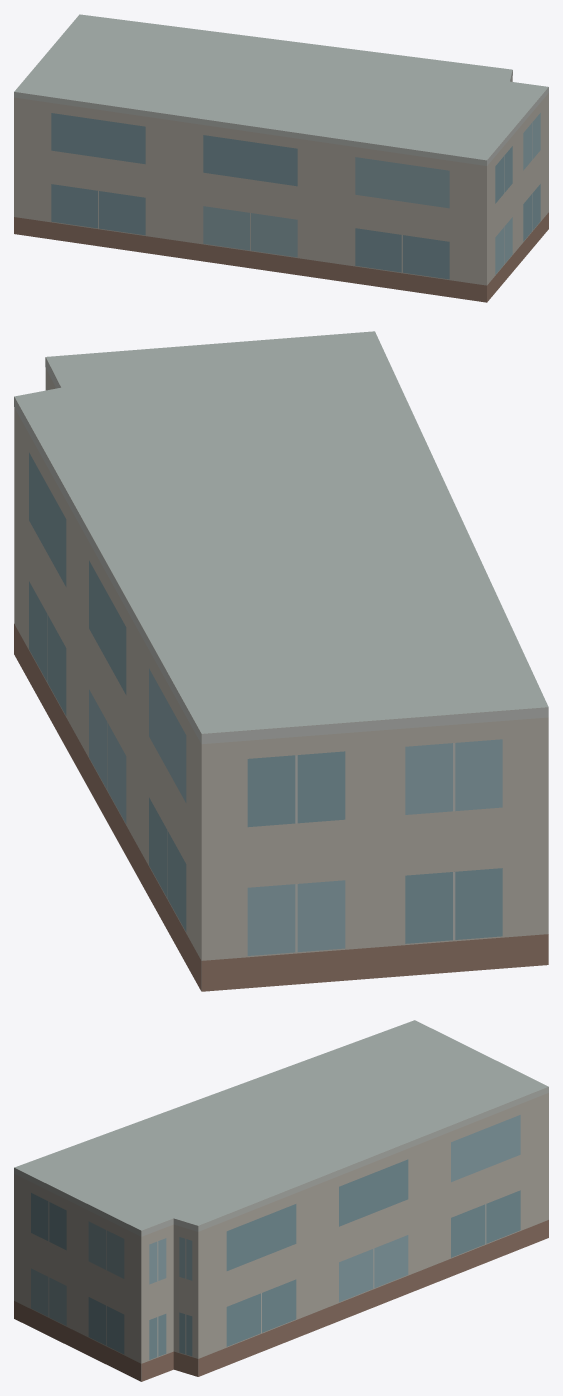
The model's file is survey-upis-32659807.glb.
3 views of the same model, one above another, from view 1: azimuth 30°, elevation 25°; view 2: azimuth 150°, elevation 25°; view 3: azimuth 270°, elevation 25° (orthographic). The views are drawn at different scales.
Visible parts, largest first — view 1: survey-upis-32659807.tmp; view 2: survey-upis-32659807.tmp; view 3: survey-upis-32659807.tmp.
Part boxes in pixels (x1,y1,x2,y2): survey-upis-32659807.tmp: [14, 14, 548, 302]; survey-upis-32659807.tmp: [14, 331, 548, 991]; survey-upis-32659807.tmp: [14, 1020, 548, 1381].
Bounding box in the file's own units: 18.25 × 6.1 × 19.57.
